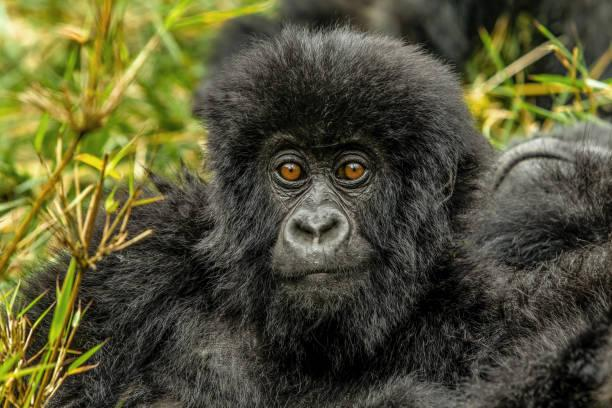goriile_montagne: (88, 0, 612, 408)
